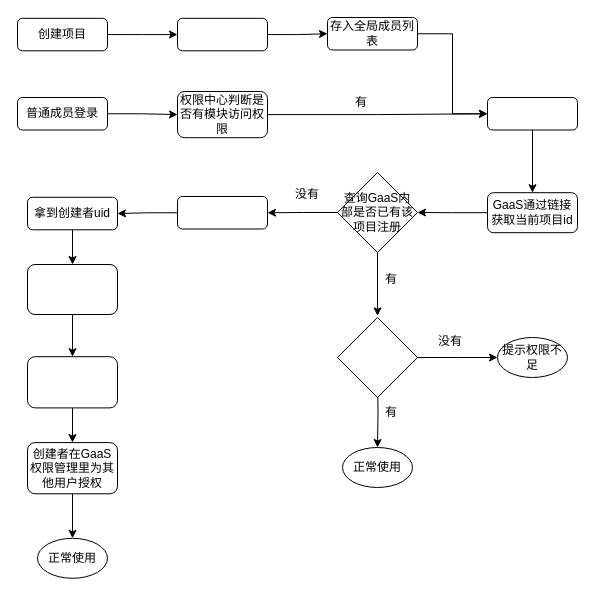
Some shapes in this 595 by 596 pixel diagram are drawn without their labels. The shapes that lost their labels are listed below. From the top down, each one's box as (x1, y1, x2, y2) in pixels, then its label:
(176, 17, 268, 51): 权限中心赋予创建者权限
(486, 96, 578, 130): 访问GaaS
(176, 196, 268, 229): 通过项目id拉取全局成员列表
(26, 264, 118, 314): 存入GaaS自己的权限列表，授予最高权限
(336, 316, 418, 398): GaaS内部判断该用户是否有GaaS使用权限
(26, 356, 118, 408): 创建者在全局成员管理里添加其他用户
